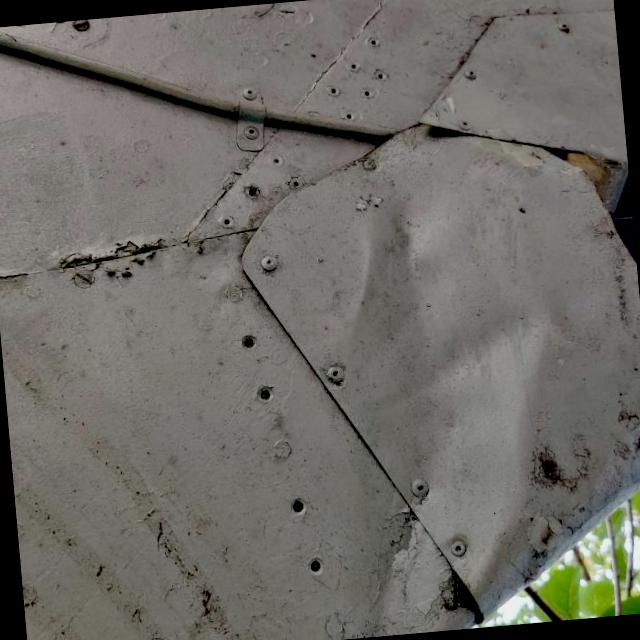dent: (282, 190, 608, 640)
